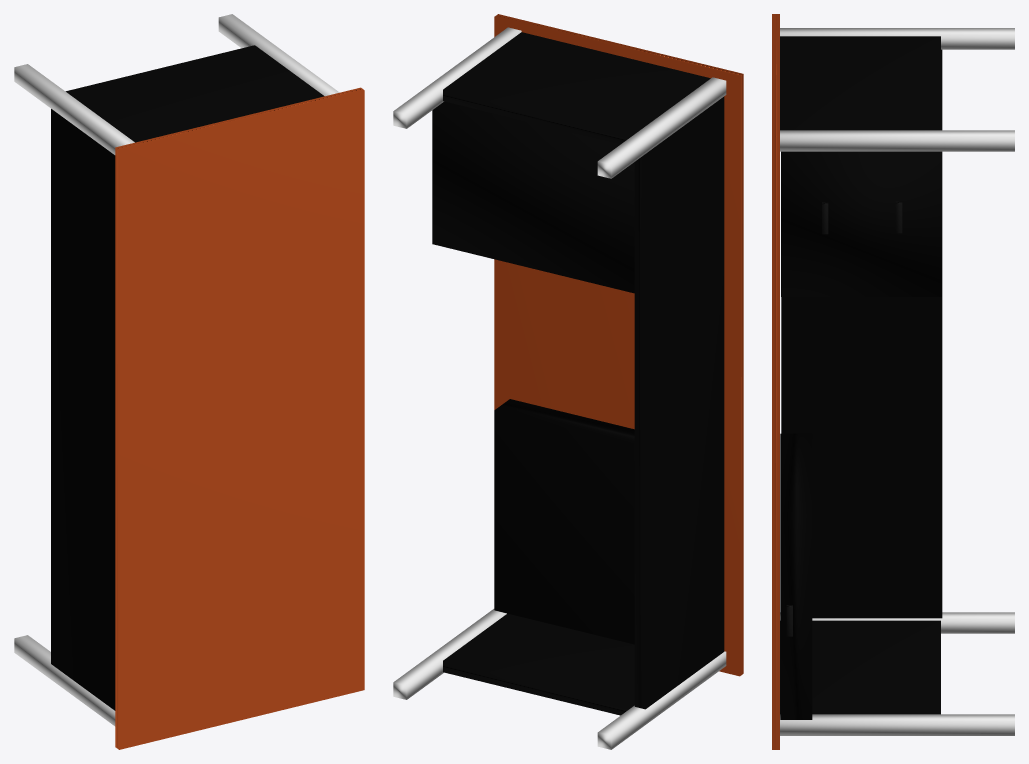
The model's file is teachersdesk.fbx.
The picture shows the model from 3 angles, left to right: view 1: azimuth 30°, elevation 25°; view 2: azimuth 150°, elevation 25°; view 3: azimuth 270°, elevation 25°; orthographic projection. The views are drawn at different scales.
Parts seen in each view (by area): view 1: TableTop, BackSide, RightSide, BackRightLeg, FrontRightLeg, BackLeftLeg; view 2: BackSide, TableTop, PullOutDrawr, Drawers, RightSide, LeftSide, BackRightLeg, BackLeftLeg, FrontRightLeg, FrontLeftLeg; view 3: BackSide, Drawers, RightSide, LeftSide, PullOutDrawr, TableTop, FrontRightLeg, FrontLeftLeg, BackRightLeg, BackLeftLeg.
Part boxes in pixels (x1,y1,x2,y2): TableTop: (115,87,364,749); BackSide: (51,109,115,710); RightSide: (65,45,324,142); BackRightLeg: (14,64,134,154); FrontRightLeg: (218,14,339,96); BackLeftLeg: (14,635,115,726); BackSide: (634,96,724,709); TableTop: (494,14,743,676); PullOutDrawr: (494,399,634,644); Drawers: (432,101,634,293); RightSide: (443,32,710,144); LeftSide: (443,613,634,715); BackRightLeg: (597,77,726,178); BackLeftLeg: (597,651,726,749); FrontRightLeg: (393,27,521,128); FrontLeftLeg: (393,609,506,699); BackSide: (781,49,942,618); Drawers: (781,50,941,296); RightSide: (780,36,940,130); LeftSide: (780,620,940,714); PullOutDrawr: (780,433,812,719); TableTop: (772,14,779,749); FrontRightLeg: (780,130,1014,151); FrontLeftLeg: (780,714,1014,735); BackRightLeg: (780,28,1014,49); BackLeftLeg: (780,612,1014,633).
Size of the model in its own units: 18 by 42 by 15.07.
